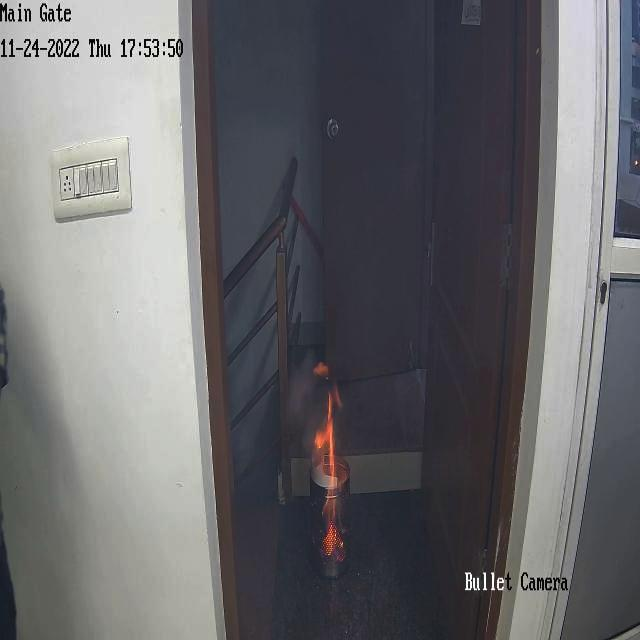fire: (314, 360, 358, 575)
smoke: (216, 2, 320, 102), (354, 124, 418, 252), (367, 0, 432, 124), (346, 253, 413, 350), (290, 361, 311, 434)
